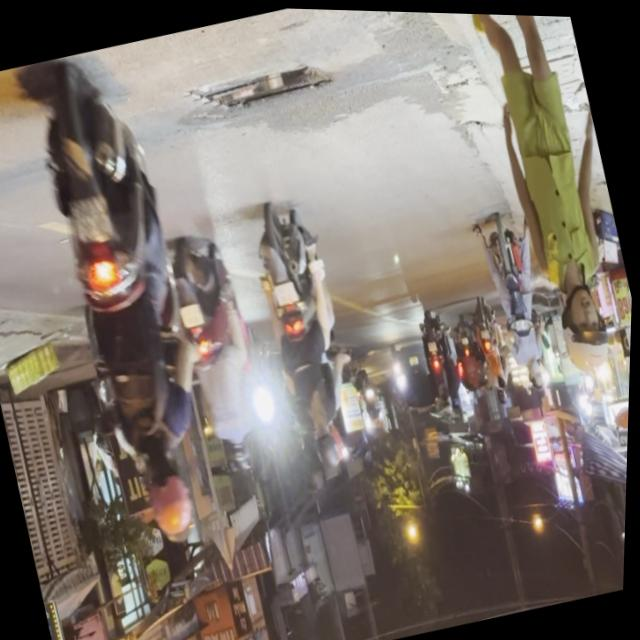helmet: (137, 448, 203, 542), (311, 421, 345, 469), (227, 436, 256, 475)
licenseplate: (6, 50, 248, 556), (234, 195, 377, 479), (155, 227, 283, 482)
nohelmet: (67, 194, 114, 246), (272, 278, 300, 306), (179, 302, 205, 329)
